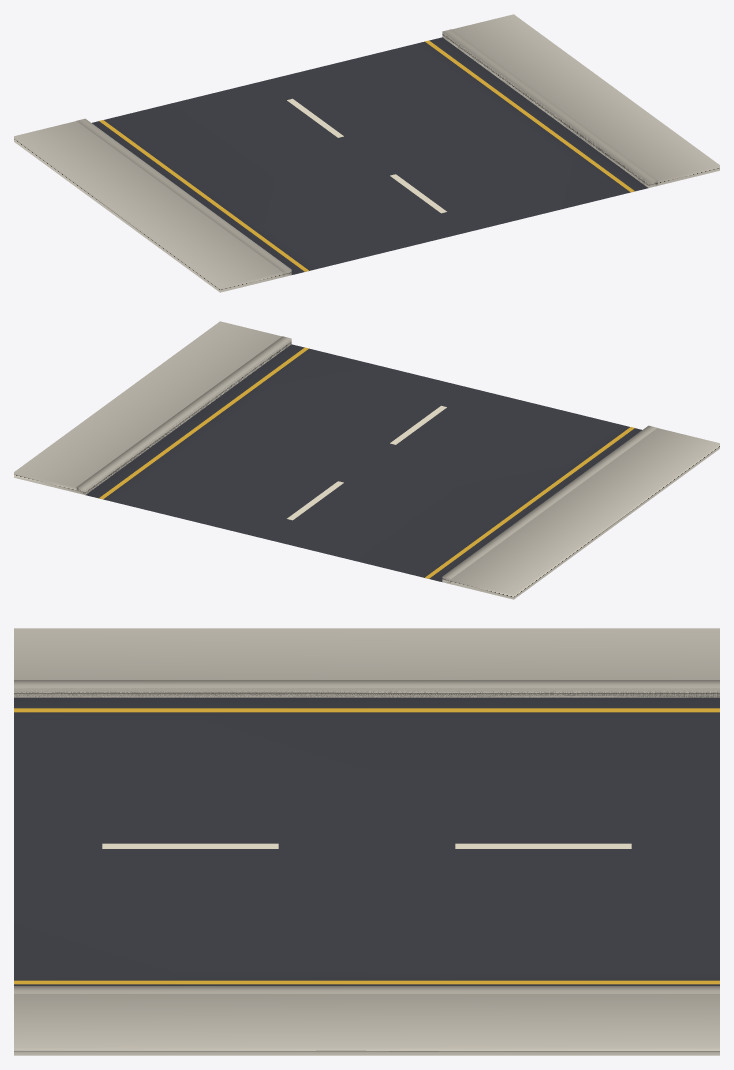
Rendered from road_straight_8m.glb.
3 renders of one model, top to bottom at view 1: azimuth 30°, elevation 25°; view 2: azimuth 150°, elevation 25°; view 3: azimuth 270°, elevation 25°, orthographic. The views are drawn at different scales.
Parts seen in each view (by area): view 1: Road; view 2: Road; view 3: Road.
Boxes of the visible parts, x1=… form: Road: x1=14, y1=14, x2=719, y2=292; Road: x1=14, y1=321, x2=719, y2=599; Road: x1=14, y1=628, x2=719, y2=1055.
Size of the model in its own units: 11.2 by 0.125 by 8.
1 material, 1 textured.
